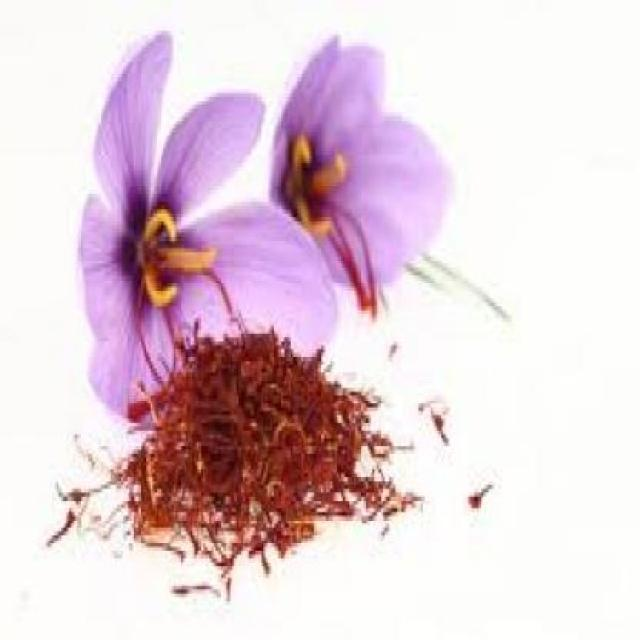Flower: (77, 28, 345, 427), (265, 36, 458, 307)
stigma: (330, 199, 382, 317), (127, 282, 161, 380), (204, 265, 242, 333), (304, 216, 308, 218)
